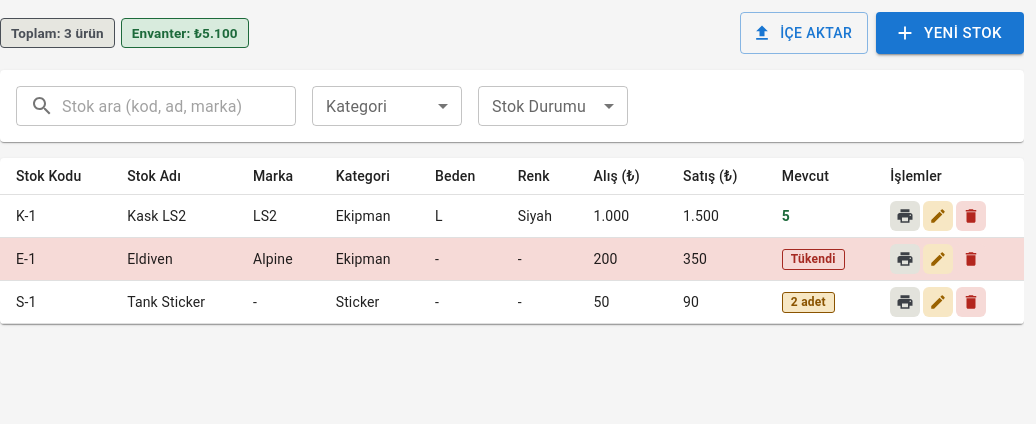
Test: Aksesuar Stok: süzgeçler › kategori süzgeci yalnız o kategoriyi bırakır; stok durumuyla birlikte çalışır (ikisi de sağlanmalı)
This screenshot has width=1036, height=424.
Check: the text "Kask LS2" is shown, box [111,195,237,238]
What coordinates should you click on to do the following:
click the 1st dropdown named "Kategori"
I would click on:
 (387, 106)
Its box is [312,86,462,126].
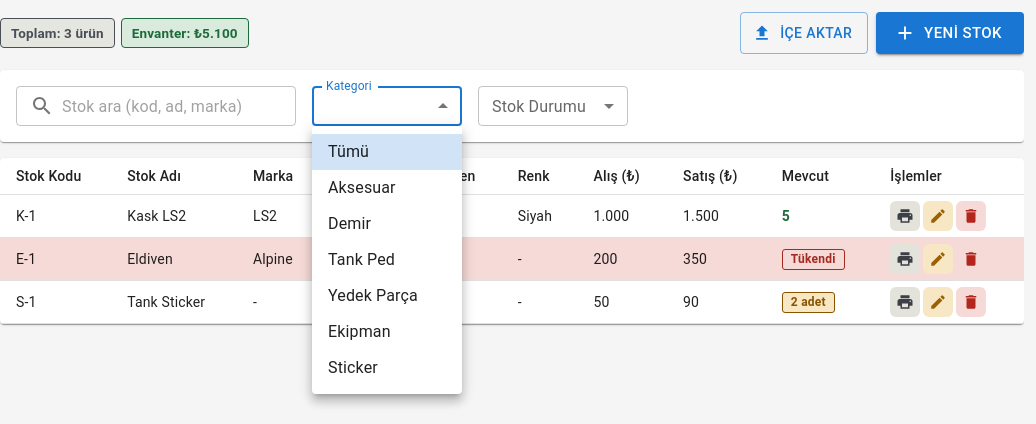
What coordinates should you click on to do the following:
click the option "Ekipman"
I would click on:
 (359, 332)
Its box is [328,322,391,341].
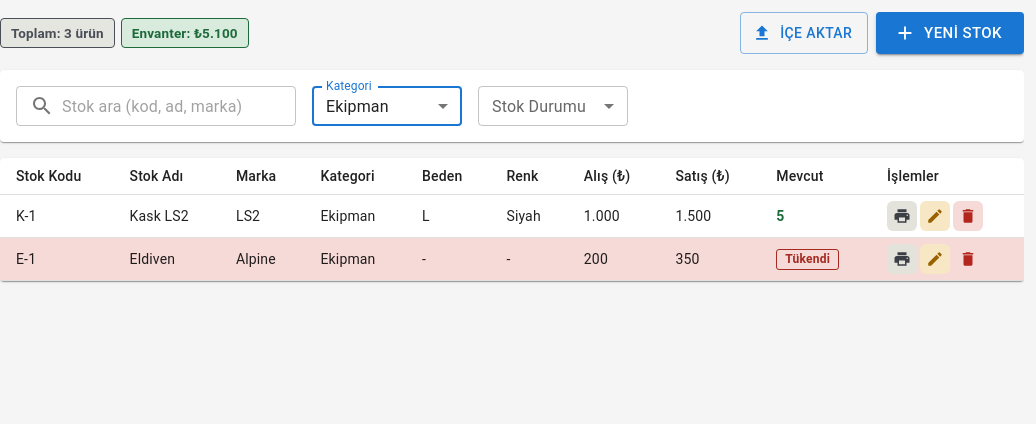
Check: the text "Kask LS2" is shown, box [114,195,220,238]
Check: the text "Tank Sticker" is gone
What coordinates should you click on to do the following:
click the dropdown named "Stok Durumu"
I would click on:
 (553, 106)
Its box is [478,86,628,126].
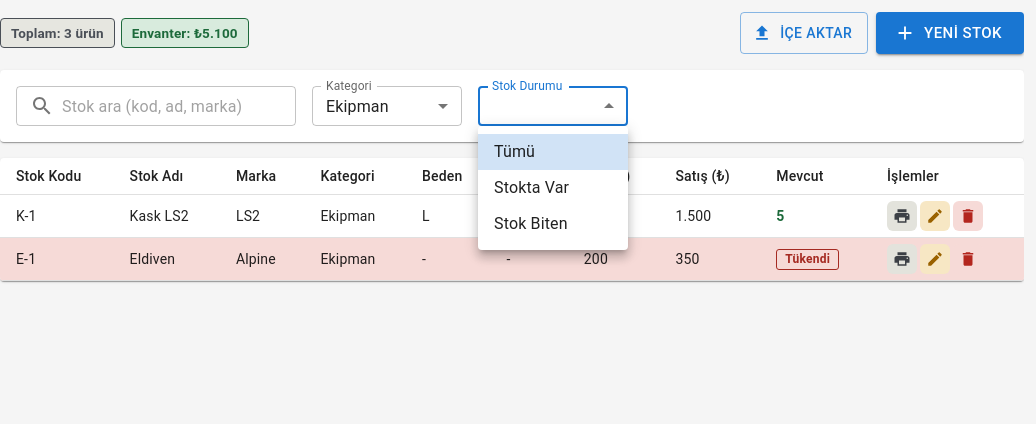
What coordinates should you click on to do the following:
click the option "Stok Biten"
I would click on:
 (531, 224)
Its box is [494,214,568,233].
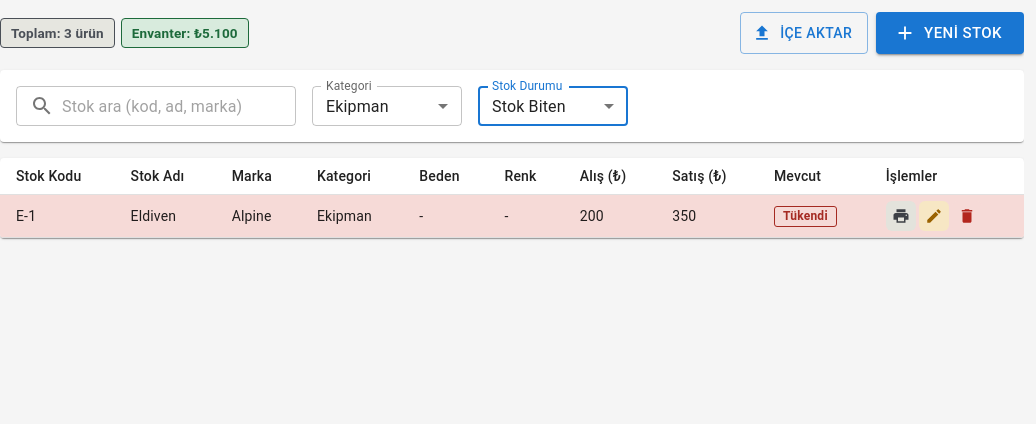
Check: the text "Eldiven" is shown, box [115,195,216,238]
Check: the text "Kask LS2" is gone
